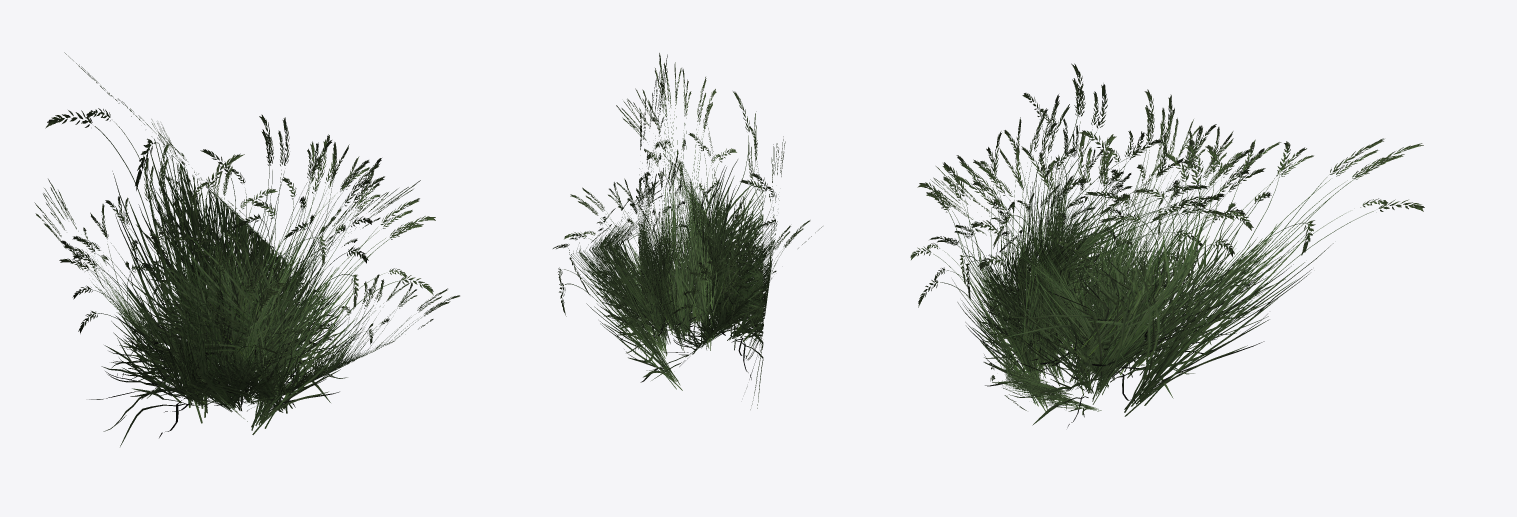
Rendered from Grass_42.fbx.
The picture shows the model from 3 angles, left to right: view 1: azimuth 30°, elevation 25°; view 2: azimuth 150°, elevation 25°; view 3: azimuth 270°, elevation 25°; orthographic projection. The views are drawn at different scales.
Visible parts, largest first — view 1: Grass_42; view 2: Grass_42; view 3: Grass_42.
Boxes of the visible parts, <box> form: Grass_42: <box>34,52,459,446</box>; Grass_42: <box>553,53,822,409</box>; Grass_42: <box>910,63,1424,427</box>.
Bounding box in the file's own units: 3840 × 3956 × 4958.
